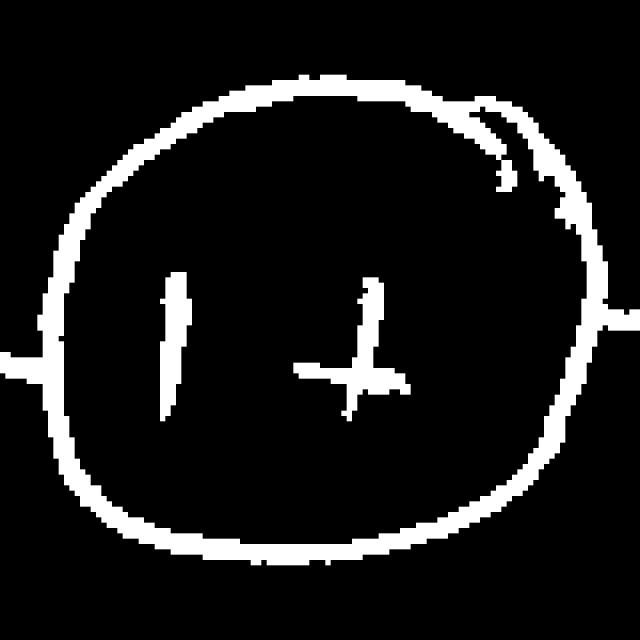voltage_source: (26, 64, 606, 596)
